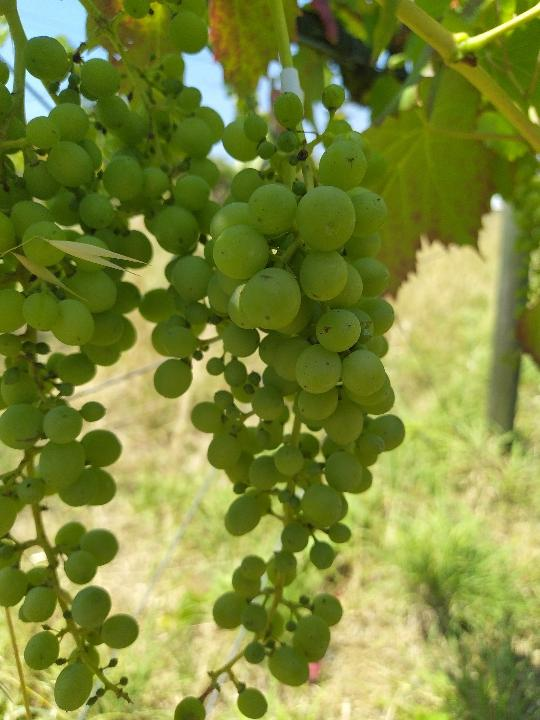grape: (140, 82, 409, 714)
